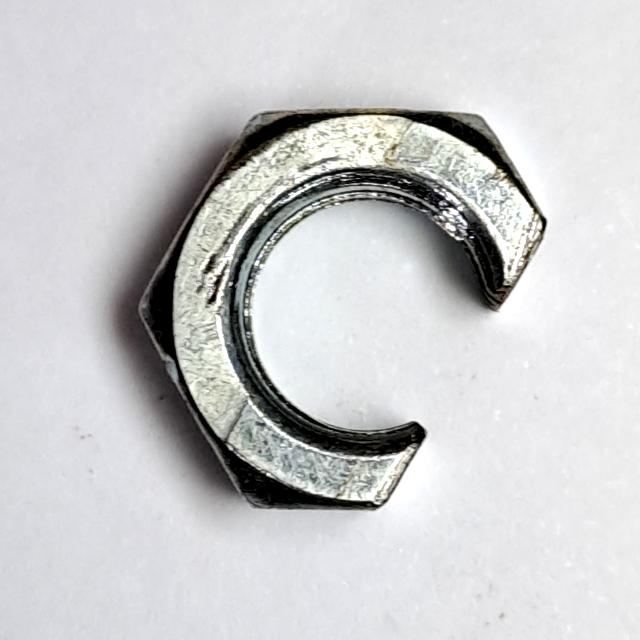Fracture: (128, 87, 556, 527)
